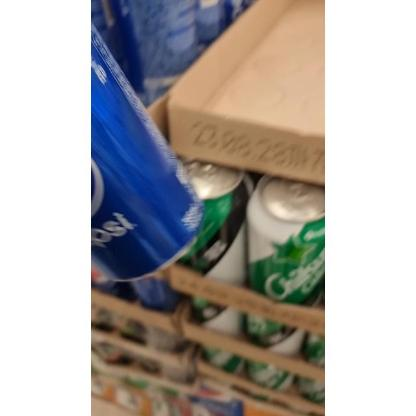Can: (92, 18, 202, 280)
